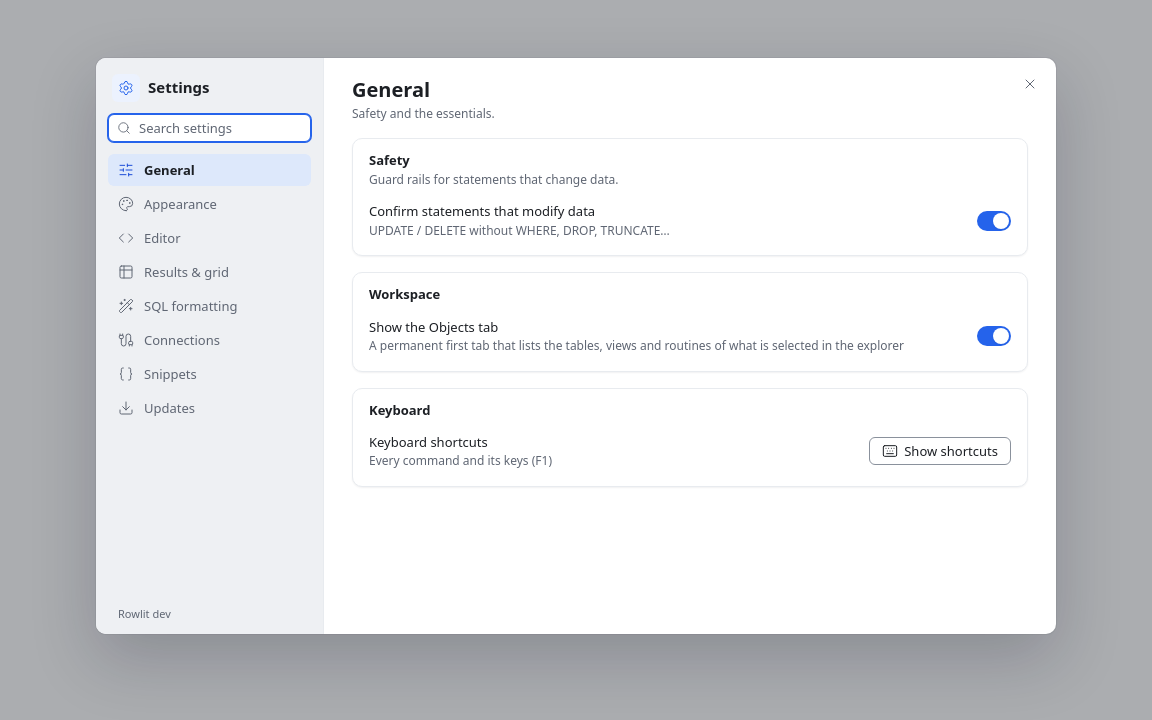
Settings dialog › search shows the matching rows of every section and hides the rest
The image size is (1152, 720).
In the search field labelled "Search settings": (220, 128) top-left (137, 115), bottom-right (304, 141), type "font"
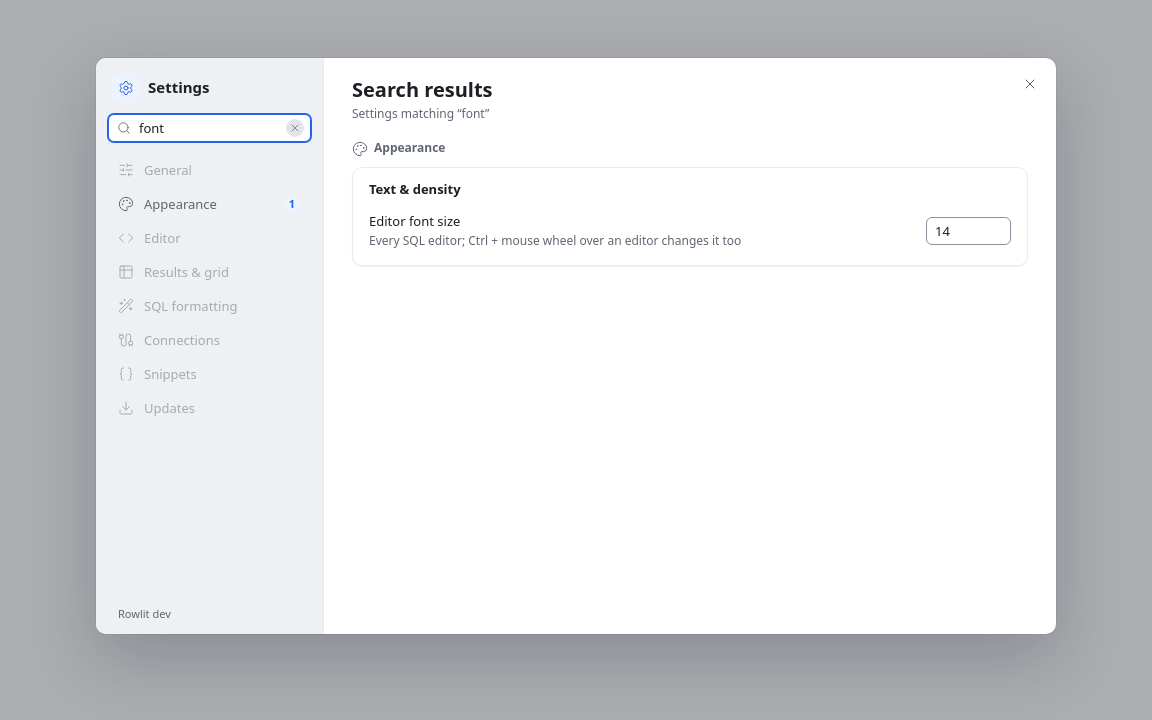
Expected: the heading "Search results" is shown, top-left (352, 76), bottom-right (492, 103)
Expected: the number field labelled "Editor font size" is shown, top-left (926, 217), bottom-right (1011, 245)
Note: Escape clears the search first (the dialog stays open)
Press Escape in the search field named "Search settings", box top-left (137, 115), bottom-right (280, 141)
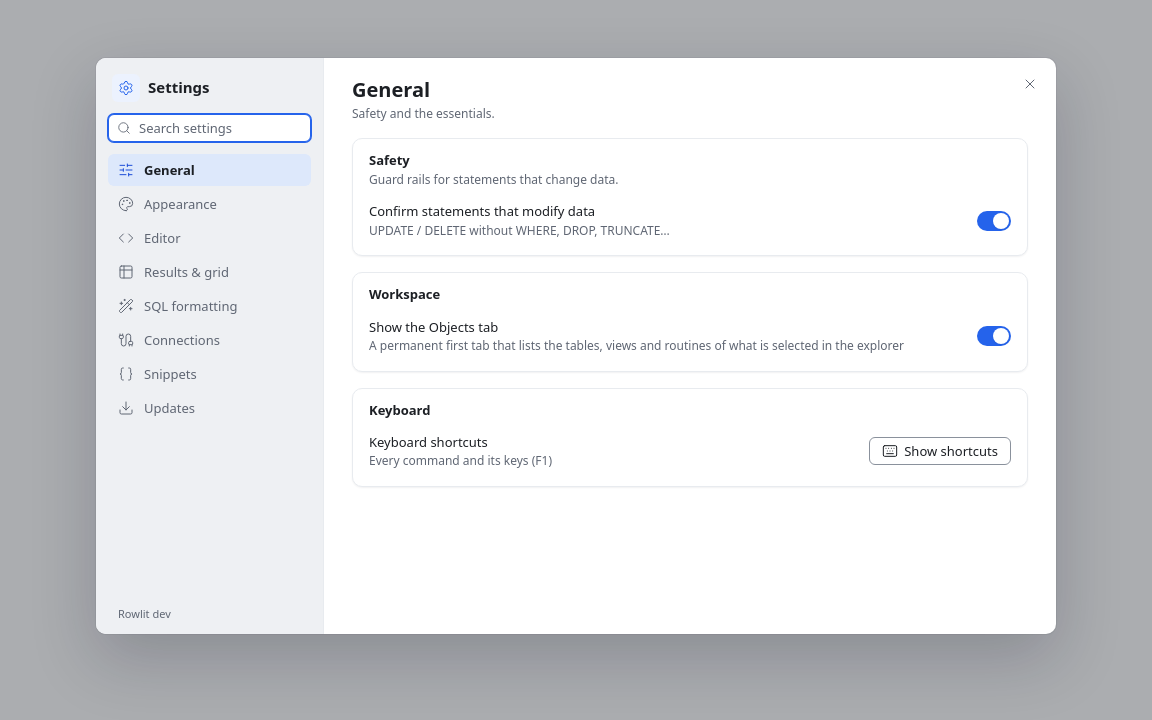
Expected: the search field labelled "Search settings" is empty
In the search field labelled "Search settings": (220, 128) top-left (137, 115), bottom-right (304, 141), type "zzzz nothing"
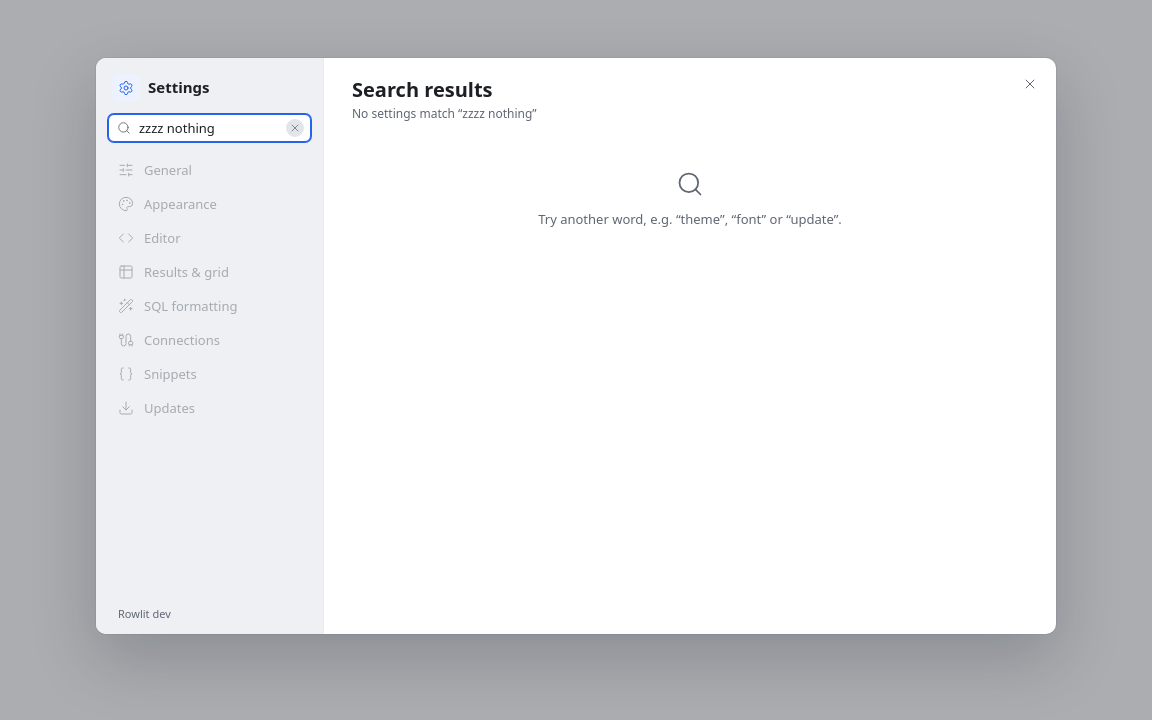
Expected: the text "No settings match “zzzz nothing”" is shown, top-left (352, 105), bottom-right (537, 122)
